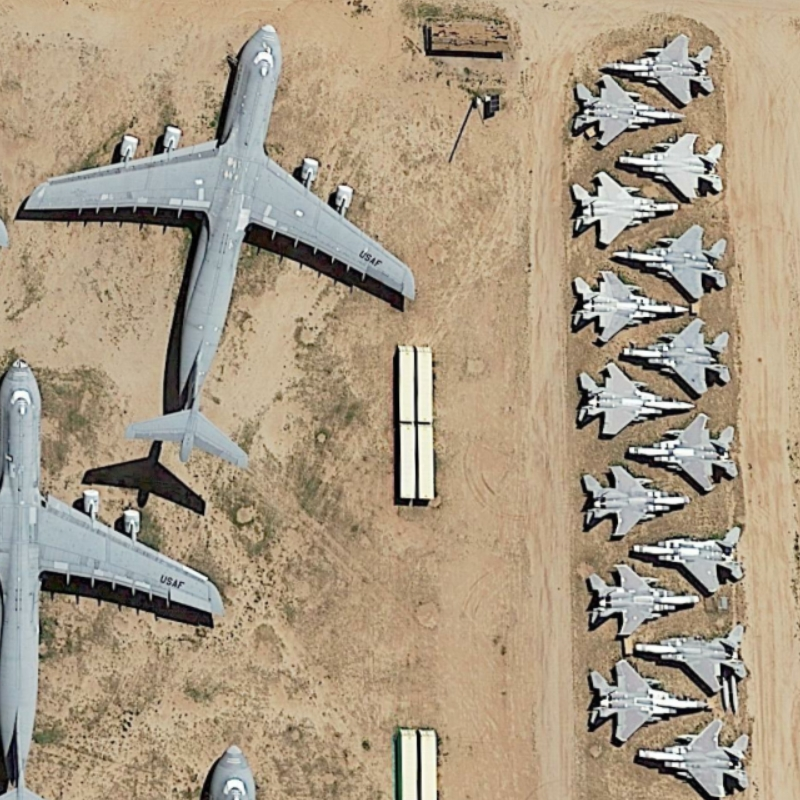A13: (579, 651, 715, 741), (568, 353, 698, 443), (557, 69, 687, 155), (563, 264, 693, 349), (617, 314, 742, 400), (576, 458, 698, 546), (596, 30, 729, 110), (578, 552, 704, 636), (631, 716, 756, 800), (609, 221, 735, 302), (566, 168, 689, 250), (623, 411, 743, 495), (619, 129, 727, 205)
A4: (16, 13, 425, 477)
